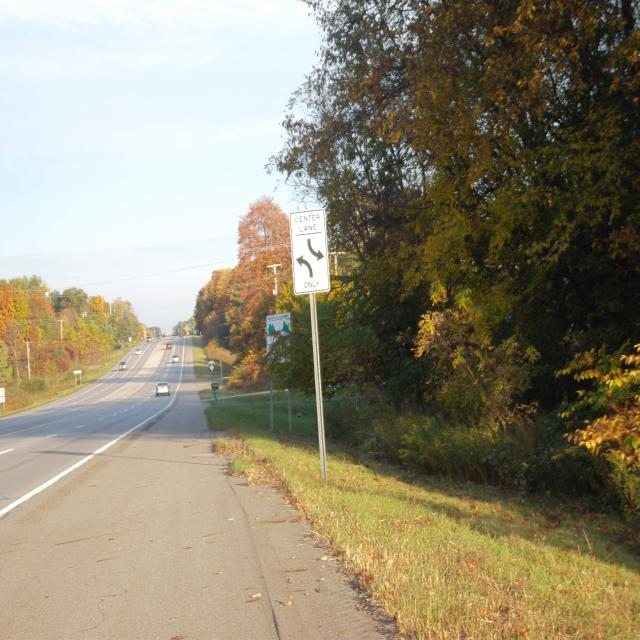regulatory: (289, 206, 332, 297)
